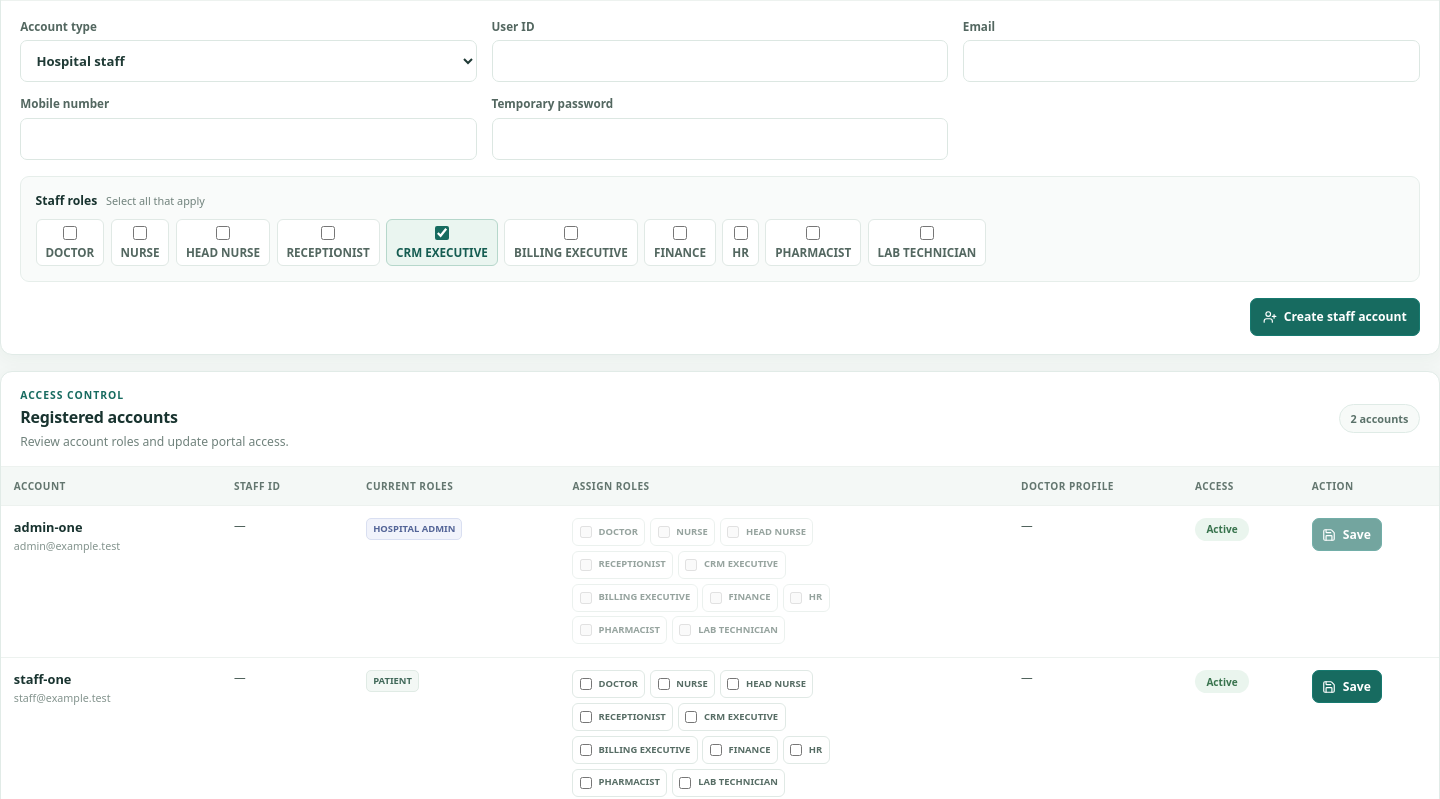
hospital administrator can assign a staff role to another registered account
The width and height of the screenshot is (1440, 799).
(page scrolled)
Click the checkbox labelled "DOCTOR" in the row of "staff-one" at (586, 684), box [580,678,592,690]
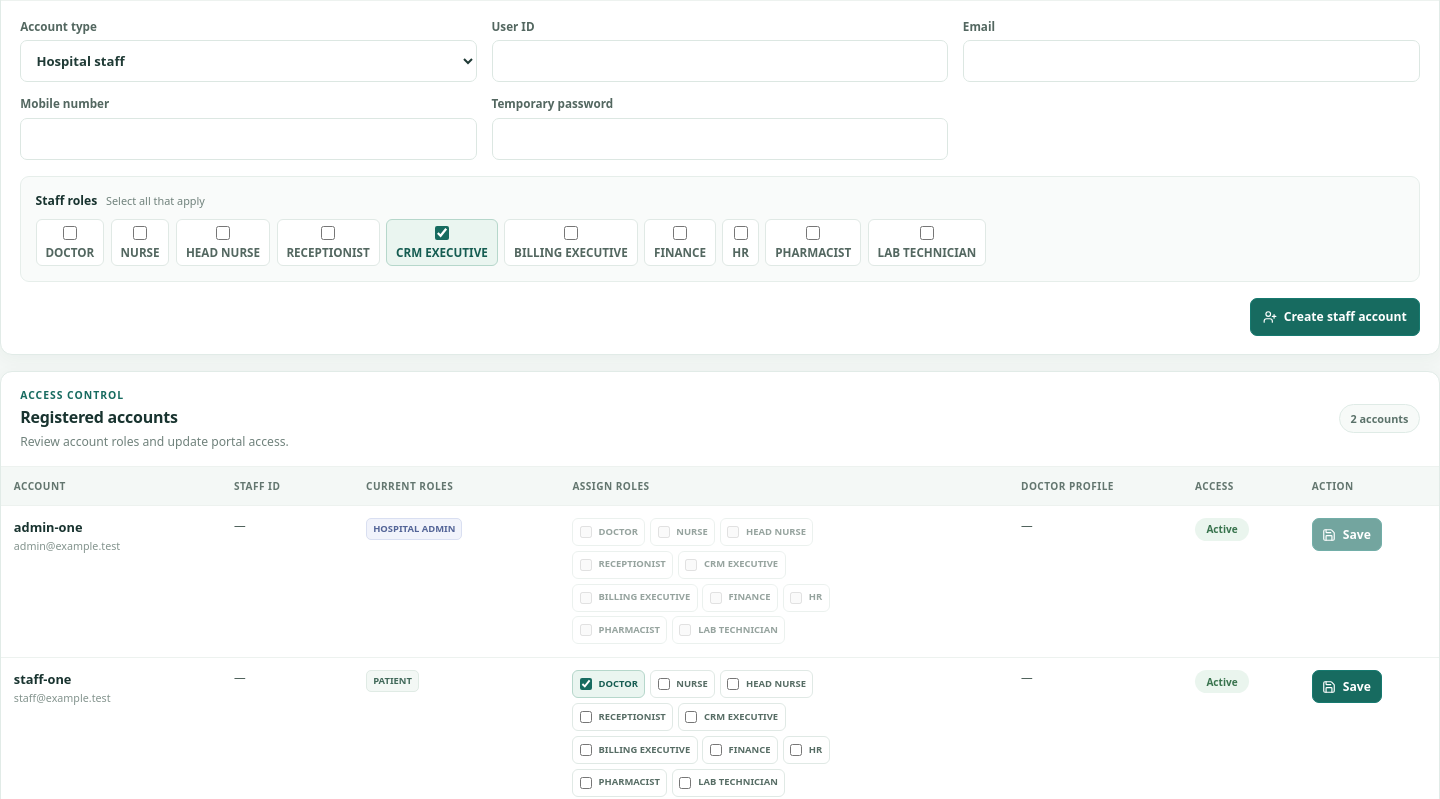
Click the button "Save" in the row of "staff-one" at (1347, 687), box [1312,670,1382,703]
(page scrolled)
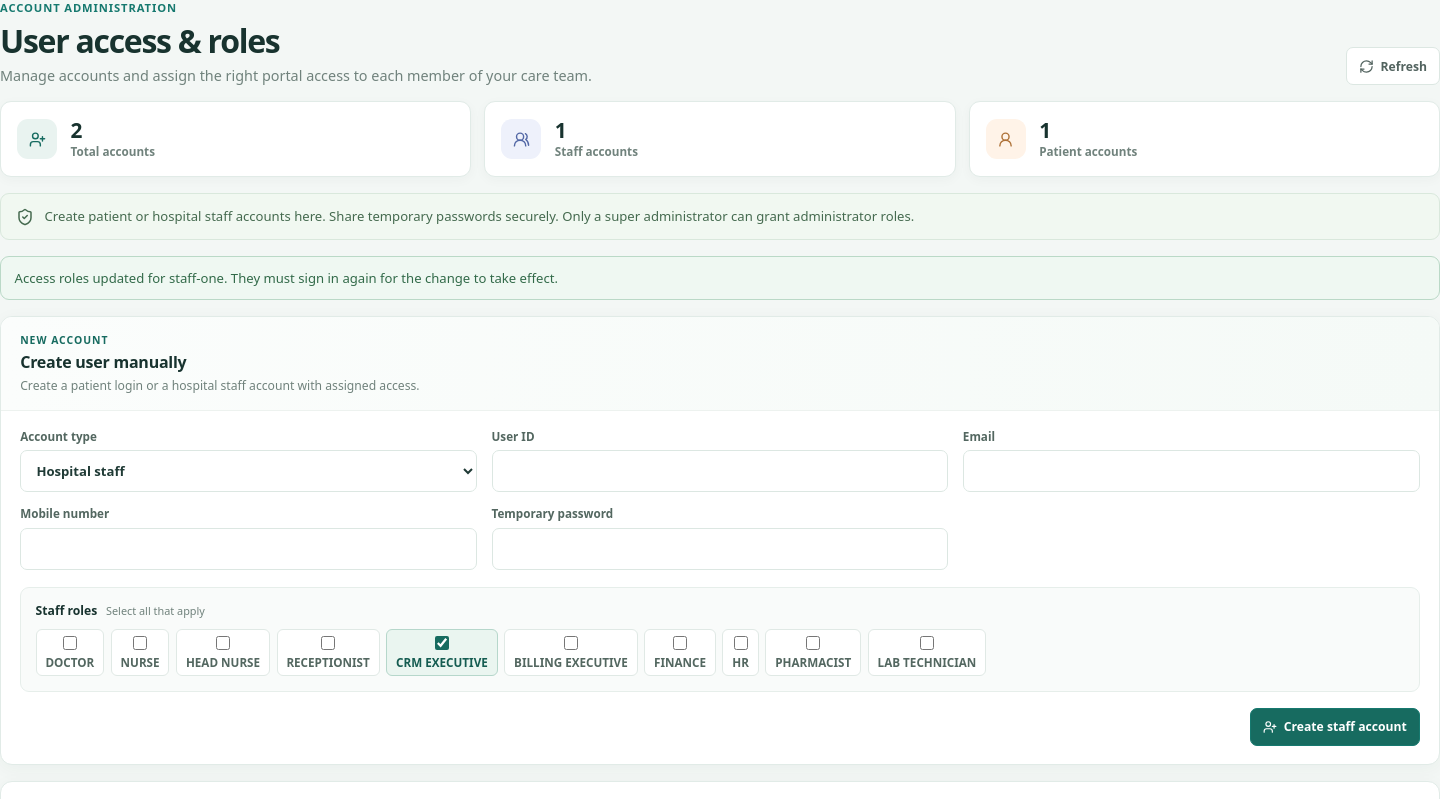
expect the text "Access roles updated for staff-one" is shown: met, box [15,269,558,287]
